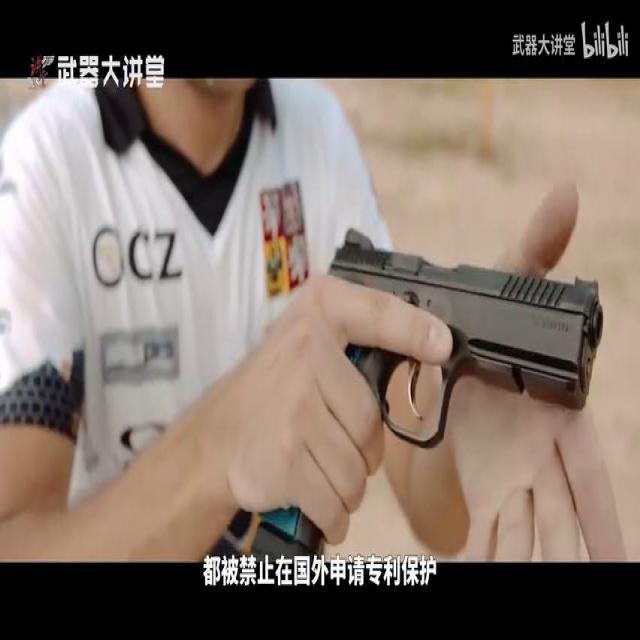Handgun: (248, 212, 608, 582)
